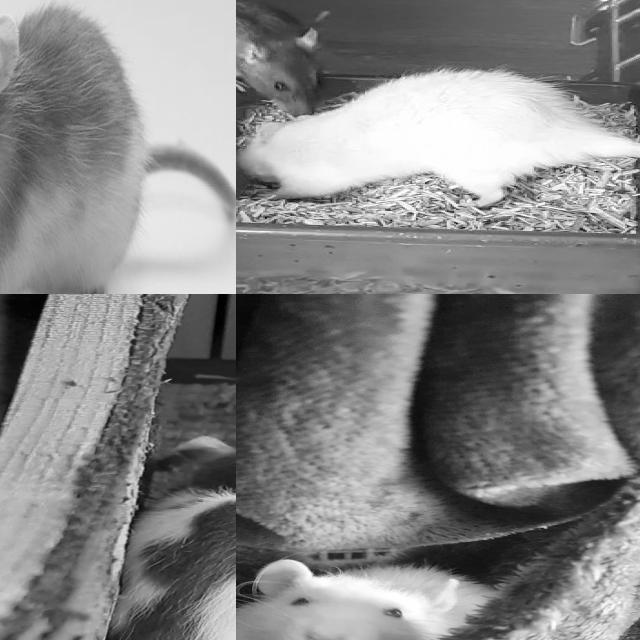rat: (236, 68, 604, 204), (0, 0, 148, 294), (93, 434, 236, 640), (236, 560, 506, 640), (236, 0, 336, 110)
